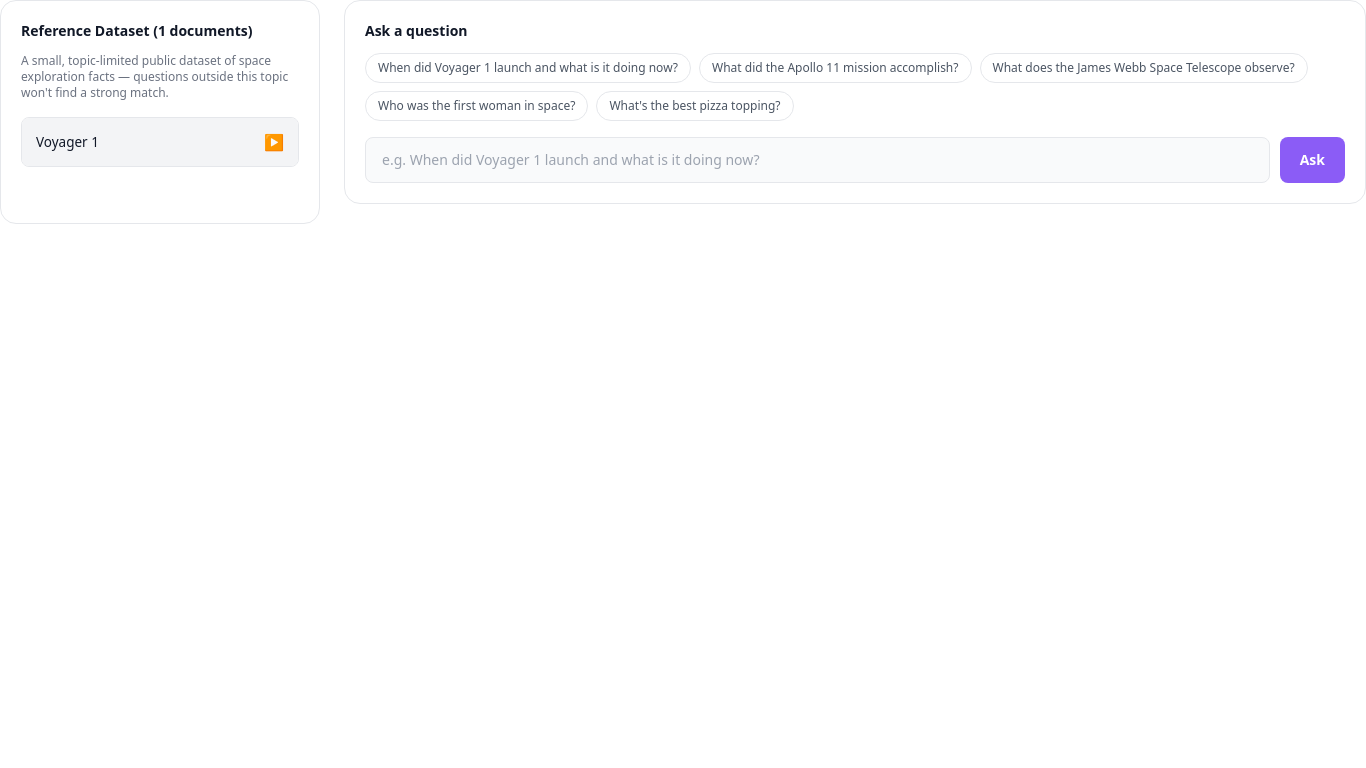
RagApp › flags a citation that matches no retrieved passage
The width and height of the screenshot is (1366, 768).
Type "When did Voyager 1 launch?" into the field with placeholder "e.g. When did Voyager 1 launch and what is it doing now?". click: (817, 160)
box: [365,137,1270,183]
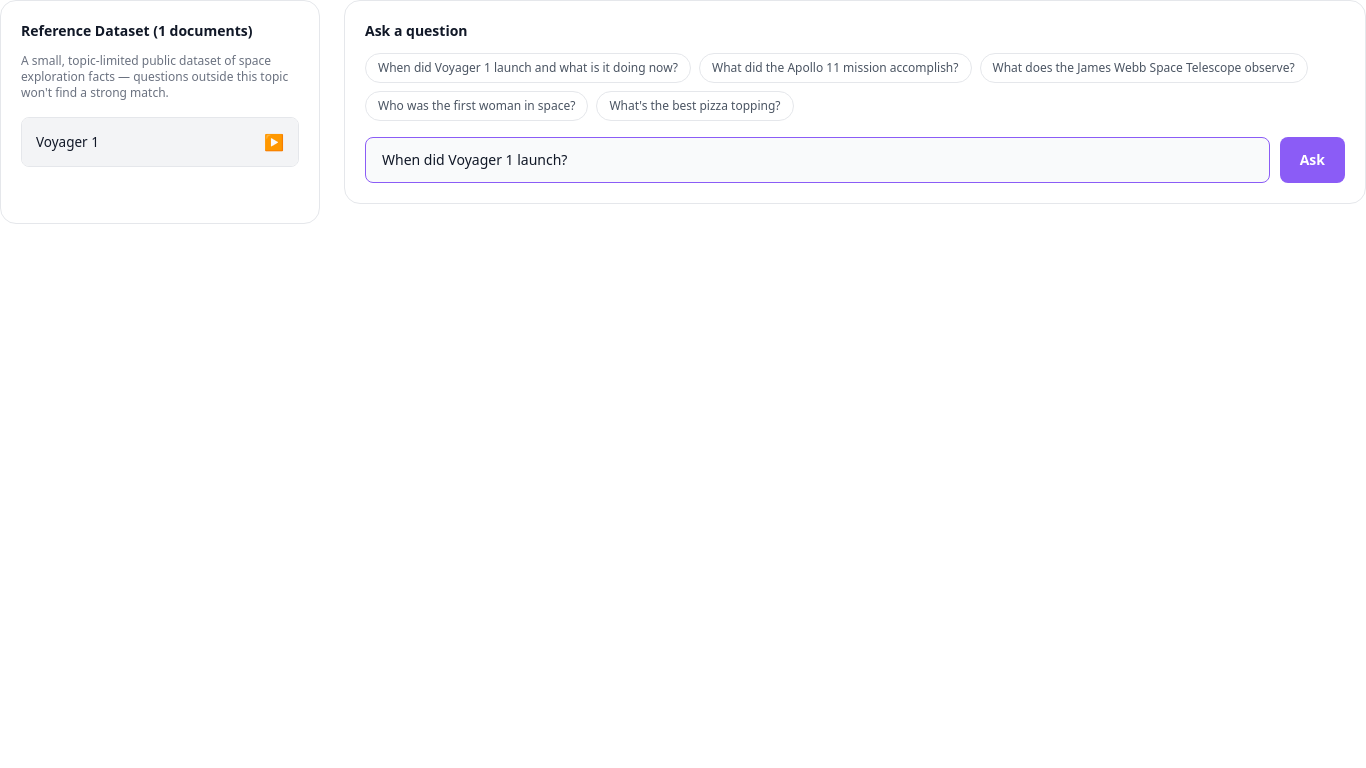
Click the button "Ask". click: (1312, 160)
box: [1280,137,1345,183]
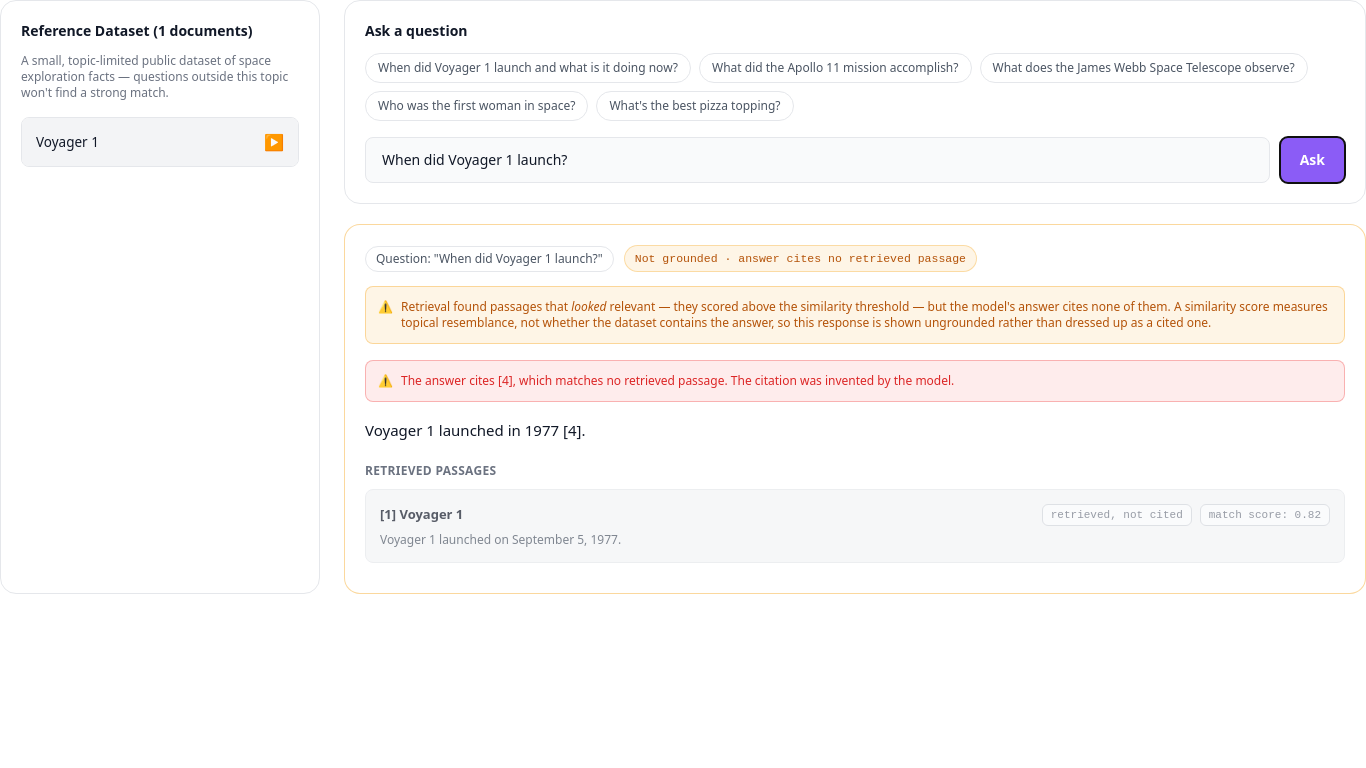
expect the text "invented by the model" is shown: met, box [603,372,954,389]
expect the text "[4], which" is shown: met, box [401,373,954,389]
